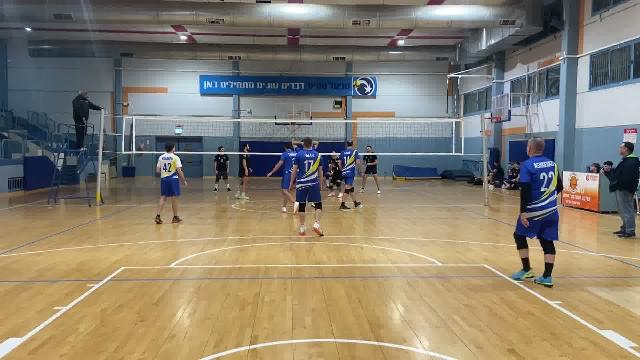ball: (353, 78, 363, 89)
